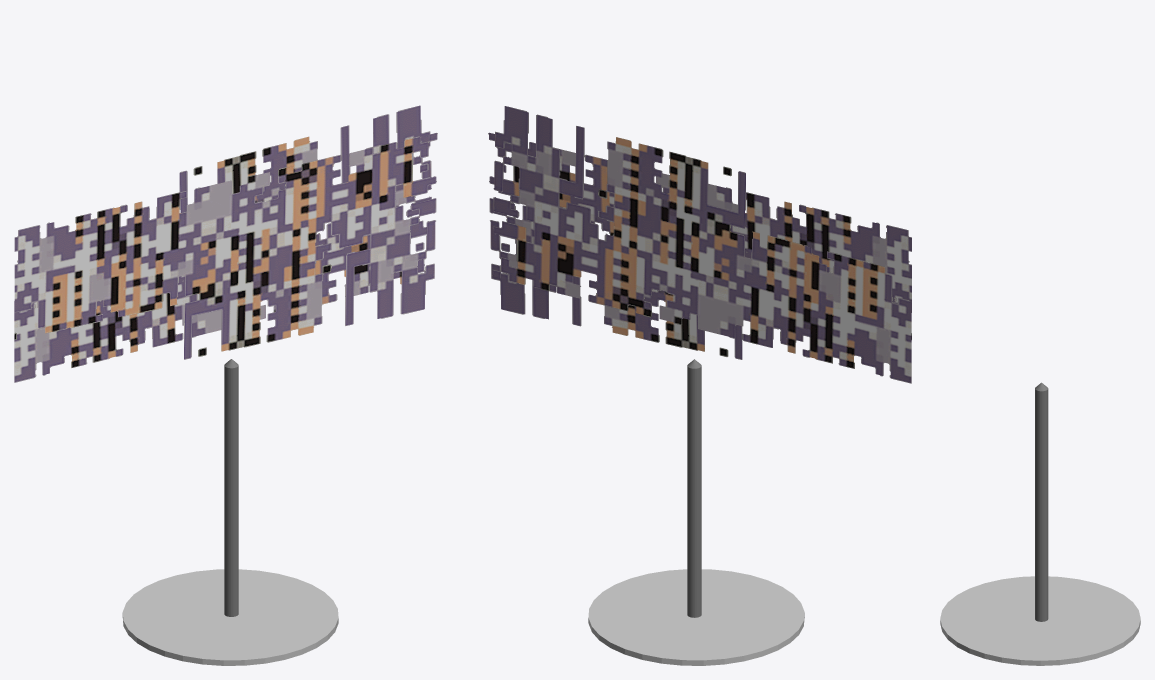
Rendered from 30MMMk2.obj.
The picture shows the model from 3 angles, left to right: view 1: azimuth 30°, elevation 25°; view 2: azimuth 150°, elevation 25°; view 3: azimuth 270°, elevation 25°; orthographic projection. The views are drawn at different scales.
Parts seen in each view (by area): view 1: 30MMMK2_Fusion001.004_color_cccccc.004, 30MMMK2_Fusion001.004_Material.004; view 2: 30MMMK2_Fusion001.004_color_cccccc.004, 30MMMK2_Fusion001.004_Material.004; view 3: 30MMMK2_Fusion001.004_Material.004, 30MMMK2_Fusion001.004_color_cccccc.004.
Boxes of the visible parts, box(x1,y1,x2,y2) form: 30MMMK2_Fusion001.004_color_cccccc.004: box(14, 105, 437, 616); 30MMMK2_Fusion001.004_Material.004: box(122, 569, 338, 665); 30MMMK2_Fusion001.004_color_cccccc.004: box(488, 106, 911, 617); 30MMMK2_Fusion001.004_Material.004: box(588, 569, 804, 665); 30MMMK2_Fusion001.004_Material.004: box(940, 576, 1140, 665); 30MMMK2_Fusion001.004_color_cccccc.004: box(1035, 382, 1048, 621).
Bounding box in the file's own units: 2.75 × 3.34 × 1.19.
